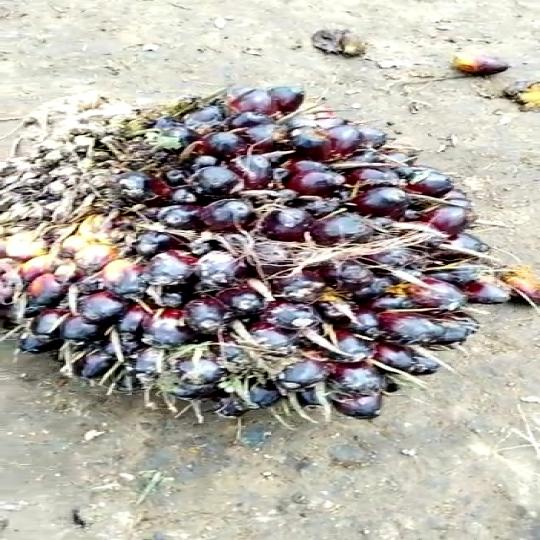mentah: (7, 82, 528, 431)
